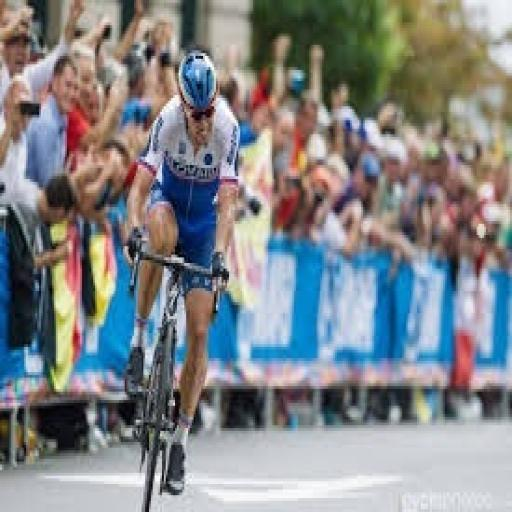cycling: (121, 48, 244, 498)
